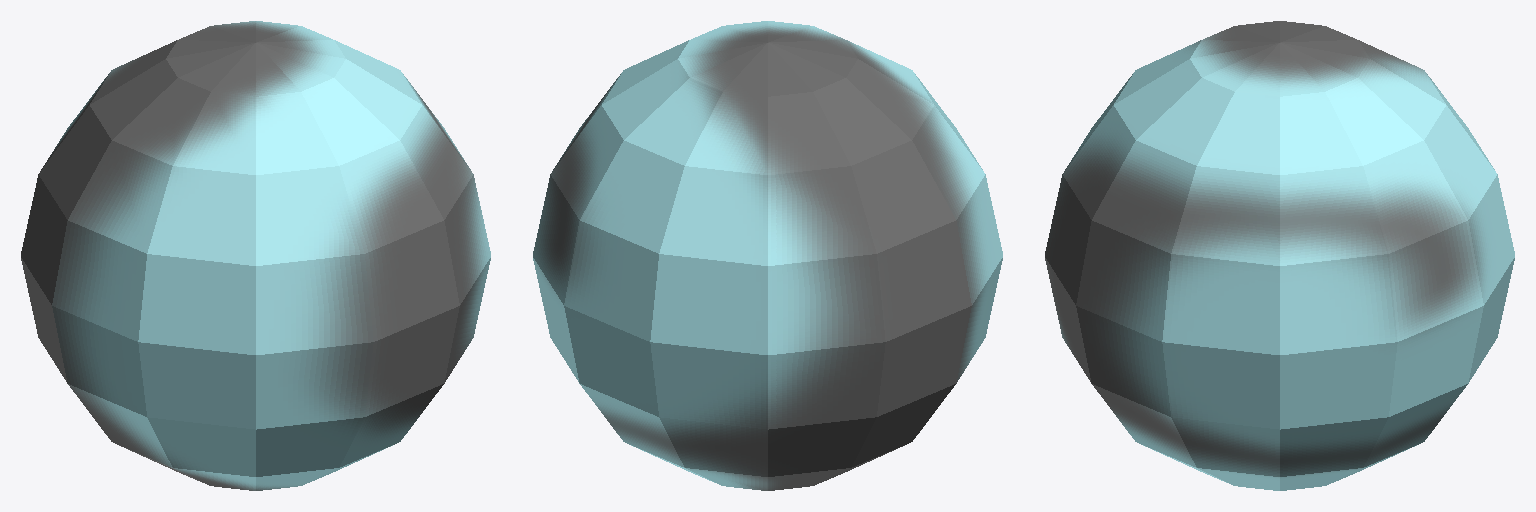
3 renders of one model, left to right at view 1: azimuth 30°, elevation 25°; view 2: azimuth 150°, elevation 25°; view 3: azimuth 270°, elevation 25°, orthographic.
Visible parts, largest first — view 1: Sphere; view 2: Sphere; view 3: Sphere.
Boxes of the visible parts, box(x1,y1,x2,y2) form: Sphere: box(21, 21, 490, 490); Sphere: box(533, 21, 1002, 490); Sphere: box(1045, 21, 1514, 490).
Bounding box in the file's own units: 2 × 2 × 2.
Materials: 1 (1 with a texture image).